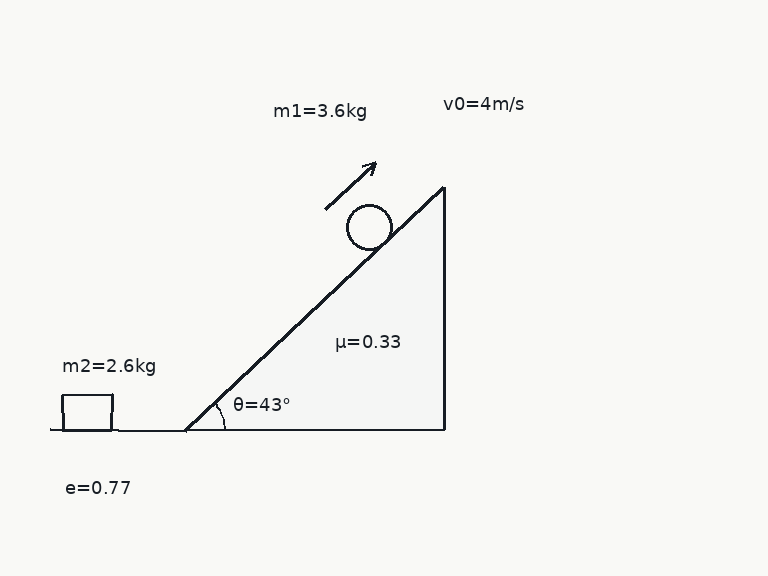ball: (344, 202, 394, 252)
block: (61, 392, 113, 432)
ramp: (183, 186, 447, 432)
